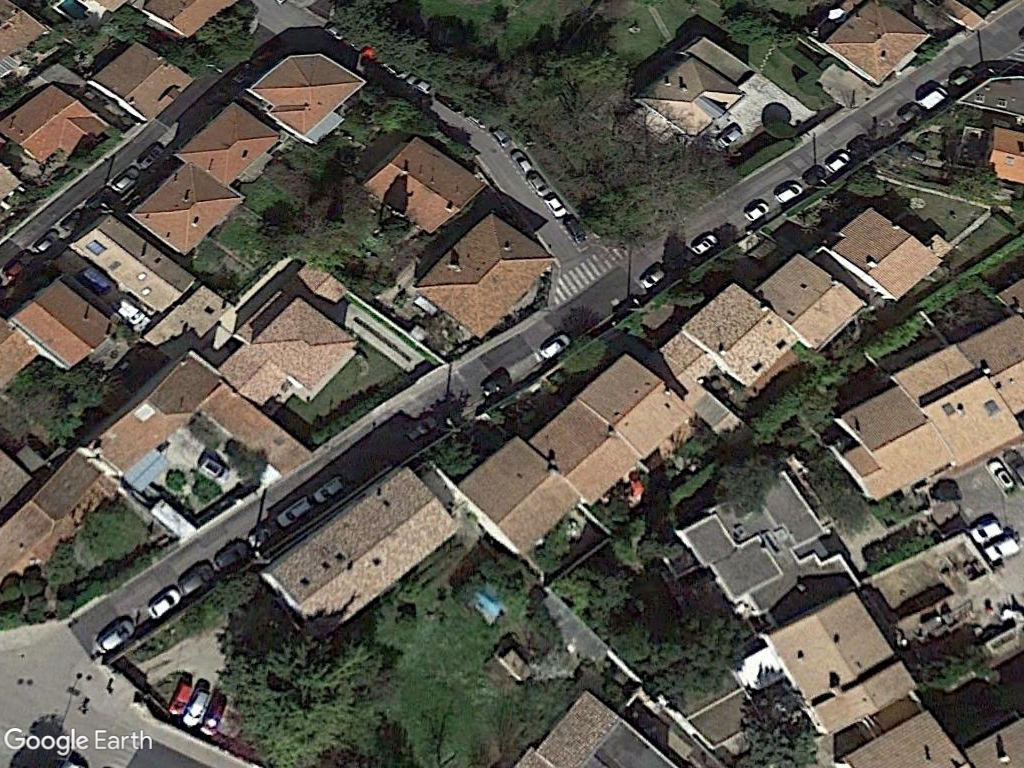car: (94, 613, 136, 657), (146, 585, 188, 624)
